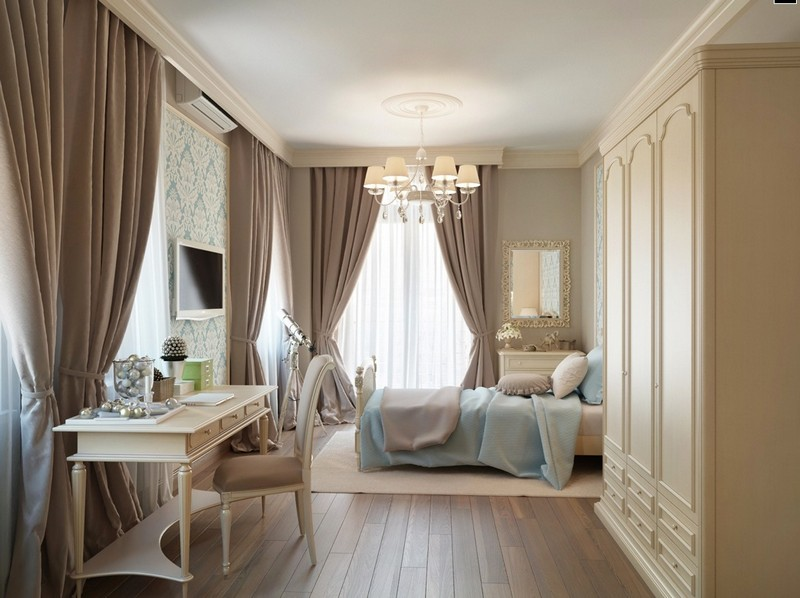bed: (357, 346, 609, 495)
chair: (223, 352, 333, 575)
table: (55, 381, 270, 584)
